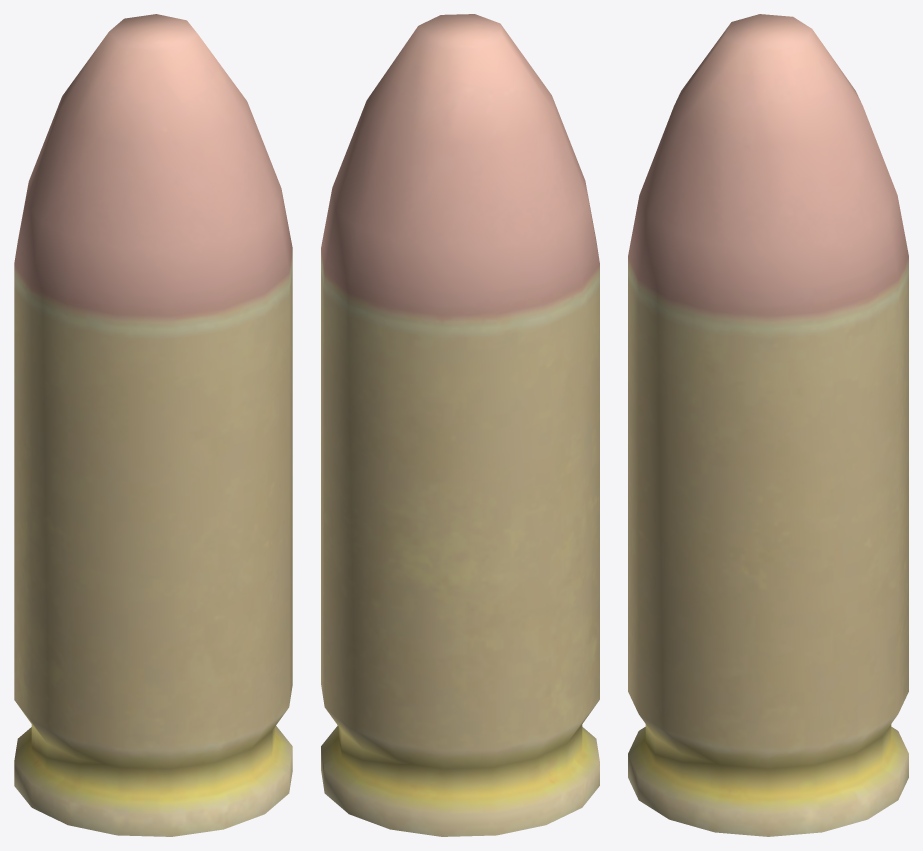
File: SM_Ammo_03a.glb
3 renders of one model, left to right at view 1: azimuth 30°, elevation 25°; view 2: azimuth 150°, elevation 25°; view 3: azimuth 270°, elevation 25°, orthographic.
Visible parts, largest first — view 1: SM_Ammo_03a; view 2: SM_Ammo_03a; view 3: SM_Ammo_03a.
Part boxes in pixels (x1,y1,x2,y2): SM_Ammo_03a: (14, 14, 292, 836); SM_Ammo_03a: (321, 14, 599, 836); SM_Ammo_03a: (628, 14, 908, 836).
Size of the model in its own units: 0.00982 by 0.0287 by 0.00982.
Materials: 1 (1 with a texture image).
